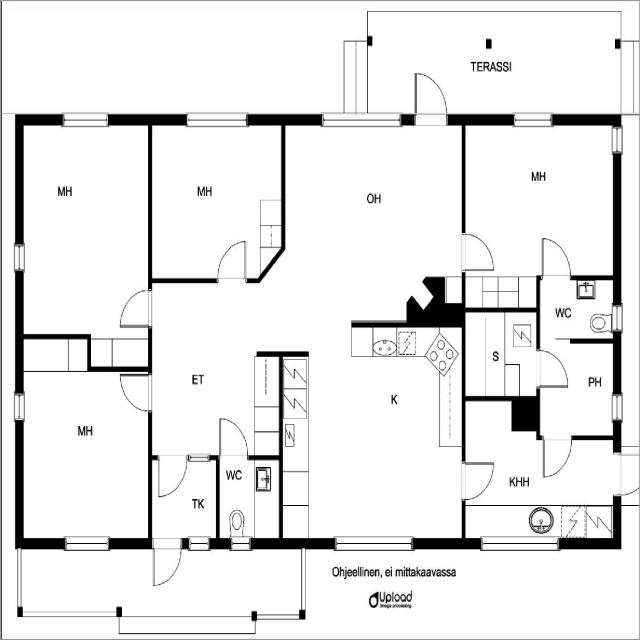door: (456, 427, 626, 546), (215, 453, 283, 545), (149, 452, 215, 541), (410, 66, 454, 123), (113, 284, 157, 336), (212, 235, 254, 289), (457, 454, 499, 503), (212, 412, 252, 463), (458, 228, 499, 276), (151, 451, 190, 501), (535, 233, 575, 281), (533, 345, 573, 393), (114, 369, 156, 414), (147, 540, 185, 589), (538, 435, 573, 482), (613, 448, 639, 499)
window: (316, 108, 405, 130), (331, 536, 415, 558), (181, 106, 252, 130), (56, 106, 114, 130), (58, 534, 116, 556), (505, 108, 558, 131), (10, 544, 27, 615), (478, 542, 558, 556), (184, 534, 214, 555), (11, 390, 27, 424), (12, 240, 26, 276), (610, 122, 624, 157), (227, 537, 254, 555), (611, 392, 624, 426), (611, 302, 624, 334)
zone: (278, 324, 462, 543), (278, 118, 467, 322), (19, 112, 153, 358), (463, 119, 617, 288), (19, 357, 150, 546), (146, 280, 276, 460), (148, 119, 282, 283), (456, 427, 623, 543), (536, 343, 619, 438), (464, 312, 538, 401), (148, 456, 218, 549), (217, 458, 283, 547), (537, 278, 619, 340), (533, 343, 580, 406), (614, 448, 640, 502)
